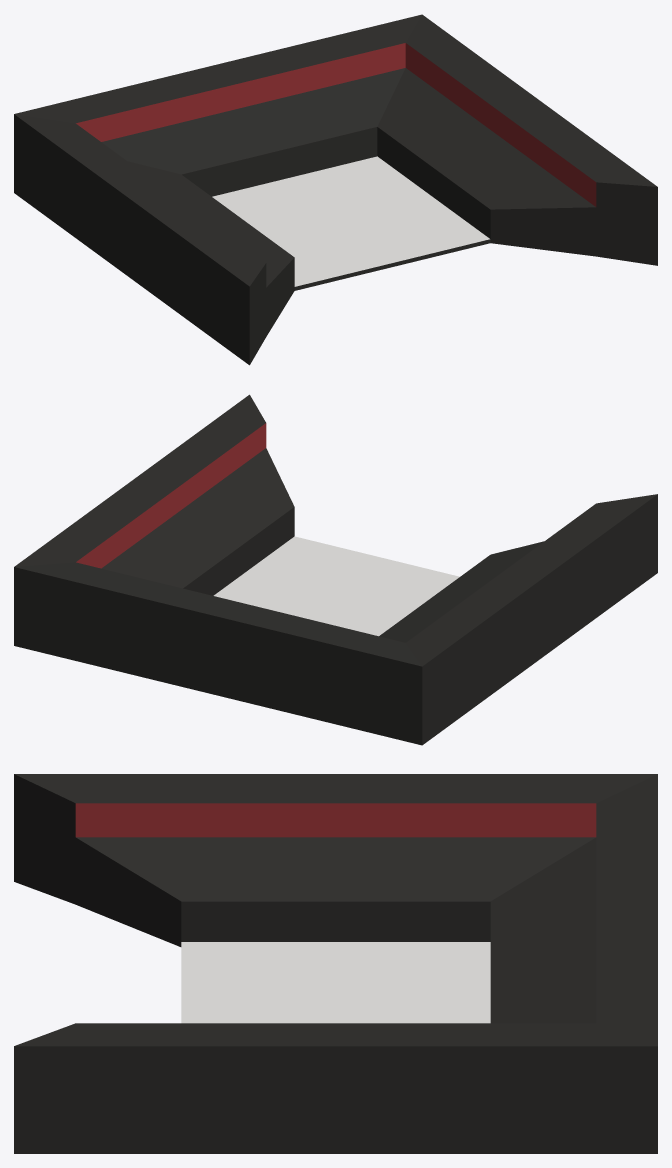
Rendered from TrainingGrounds.fbx.
3 views of the same model, one above another, from view 1: azimuth 30°, elevation 25°; view 2: azimuth 150°, elevation 25°; view 3: azimuth 270°, elevation 25° (orthographic). The views are drawn at different scales.
Parts seen in each view (by area): view 1: pCube1; view 2: pCube1; view 3: pCube1.
Boxes of the visible parts, x1=… form: pCube1: x1=14, y1=14, x2=657, y2=365; pCube1: x1=14, y1=394, x2=657, y2=745; pCube1: x1=14, y1=774, x2=657, y2=1153.
Bounding box in the file's own units: 16.59 × 3.06 × 16.59.
Materials: 1 (1 with a texture image).
